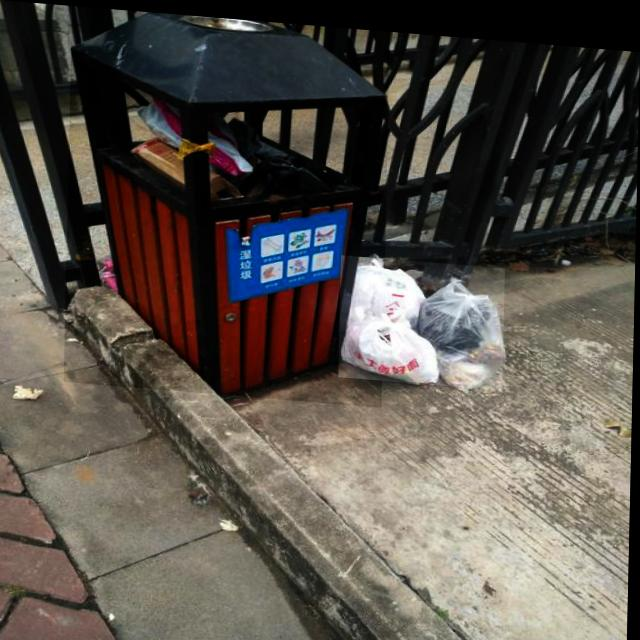garbage: (340, 250, 506, 382)
overflow: (65, 5, 390, 401)
